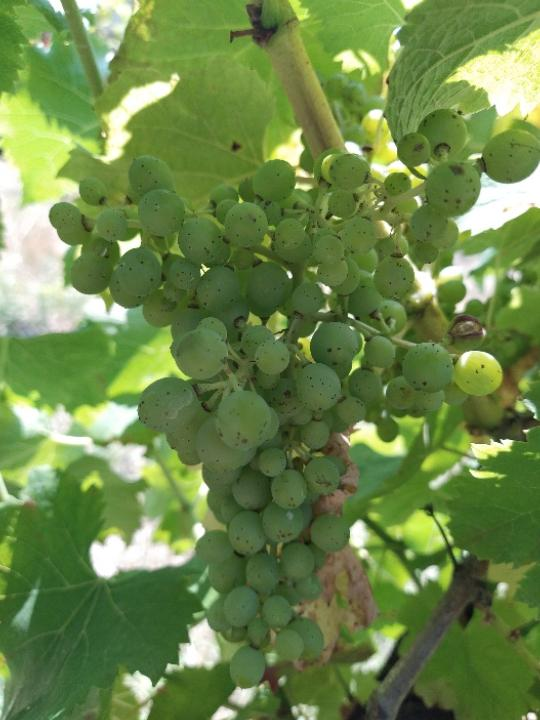grape: (46, 109, 540, 694)
